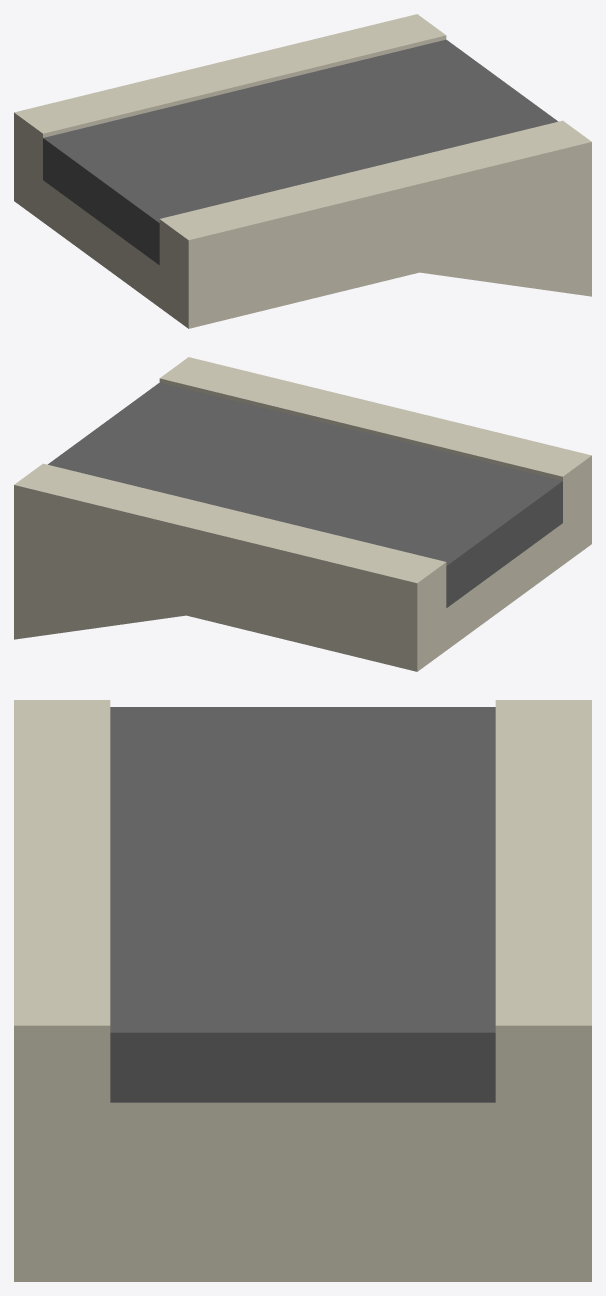
File: tile153.dae
3 views of the same model, one above another, from view 1: azimuth 30°, elevation 25°; view 2: azimuth 150°, elevation 25°; view 3: azimuth 270°, elevation 25° (orthographic). The views are drawn at different scales.
Parts seen in each view (by area): view 1: tile153; view 2: tile153; view 3: tile153.
Boxes of the visible parts, x1=… form: tile153: x1=14, y1=14, x2=591, y2=328; tile153: x1=14, y1=357, x2=591, y2=671; tile153: x1=14, y1=700, x2=591, y2=1281.
Bounding box in the file's own units: 1 × 0.3667 × 0.75.
